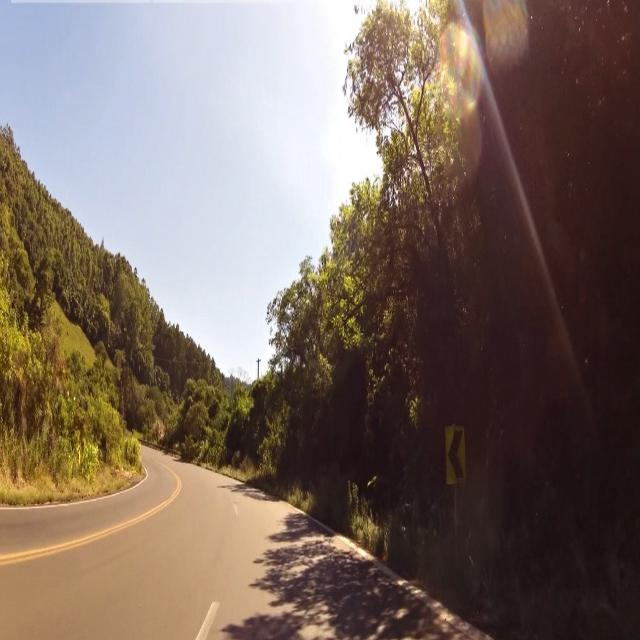Del: (445, 424, 468, 486)
